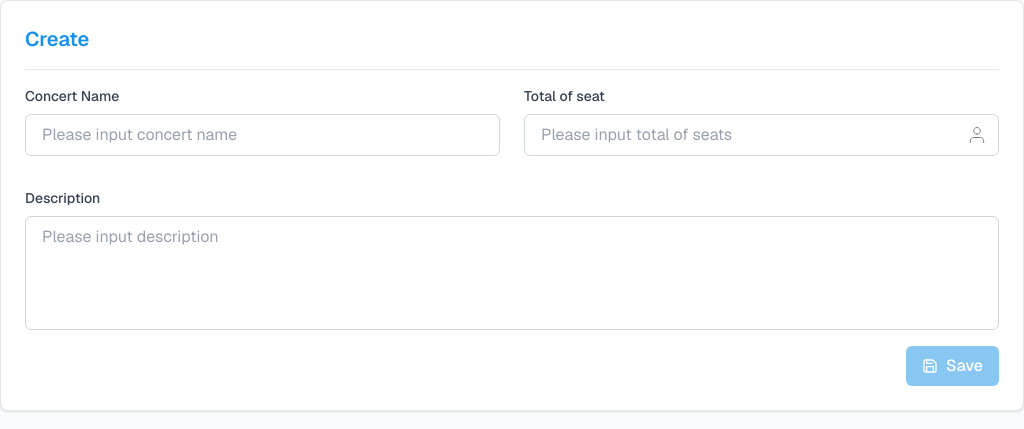
Test: CreateCard › shows error for invalid seat number
Type "Test Concert" into the field with placeholder "Please input concert name". click: [262, 135]
box: [25,114,500,156]
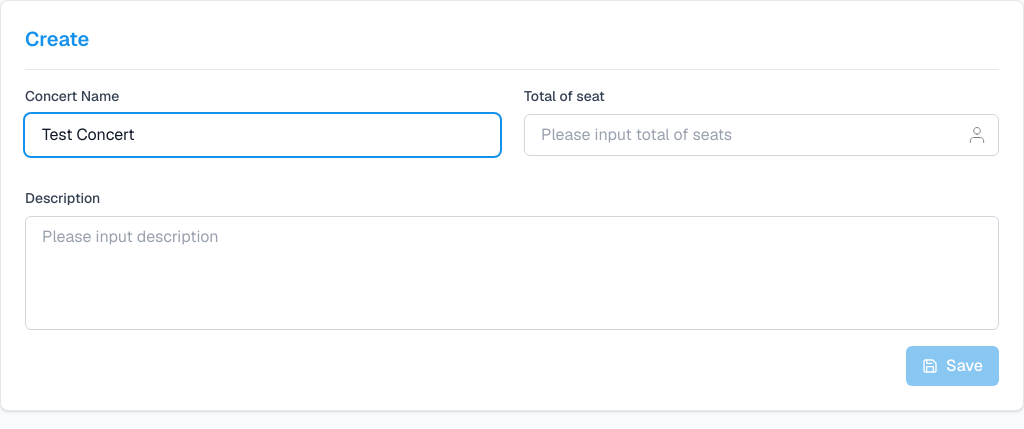
Type "0" into the number field with placeholder "Please input total of seats". click: [762, 135]
box: [524,114,999,156]
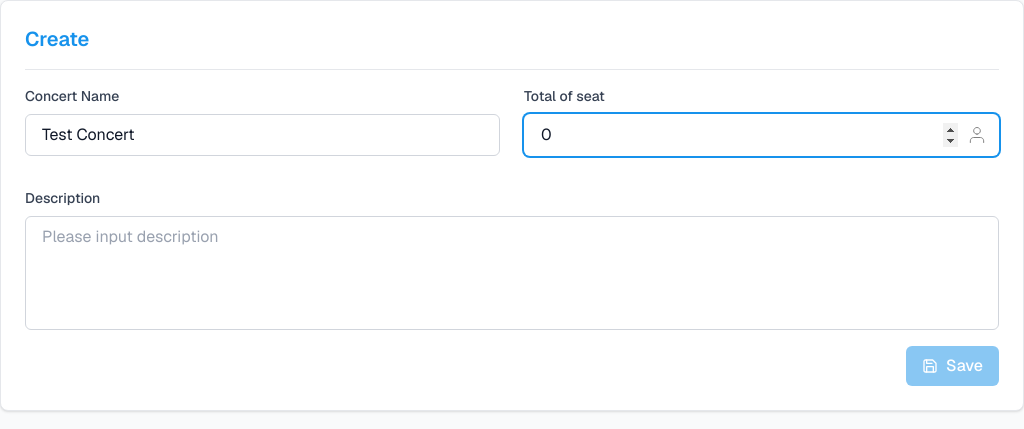
Type "Test description" into the text box with placeholder "Please input description". click: [512, 273]
box: [25,216,999,330]
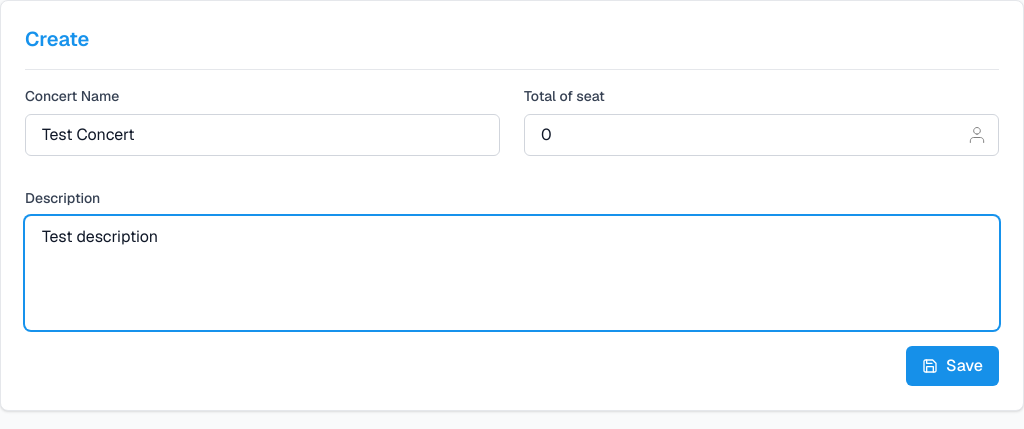
Click the button "Save". click: [952, 366]
box: [906,346,999,386]
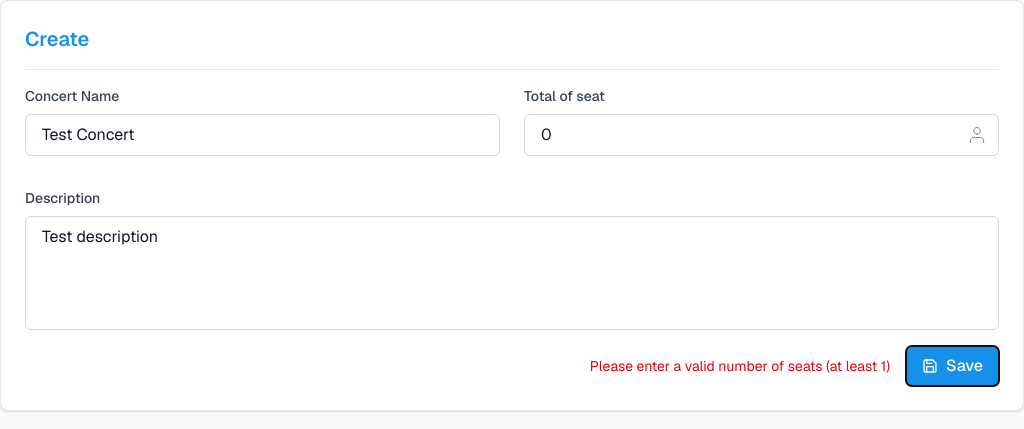
Check: the text "Please enter a valid number of seats (at least 1)" is shown, box [590,357,890,375]
